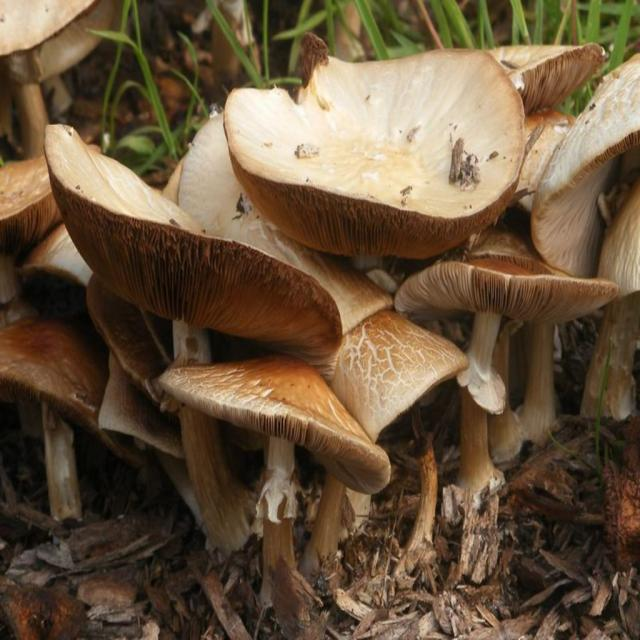Mushroom: (0, 0, 639, 620)
